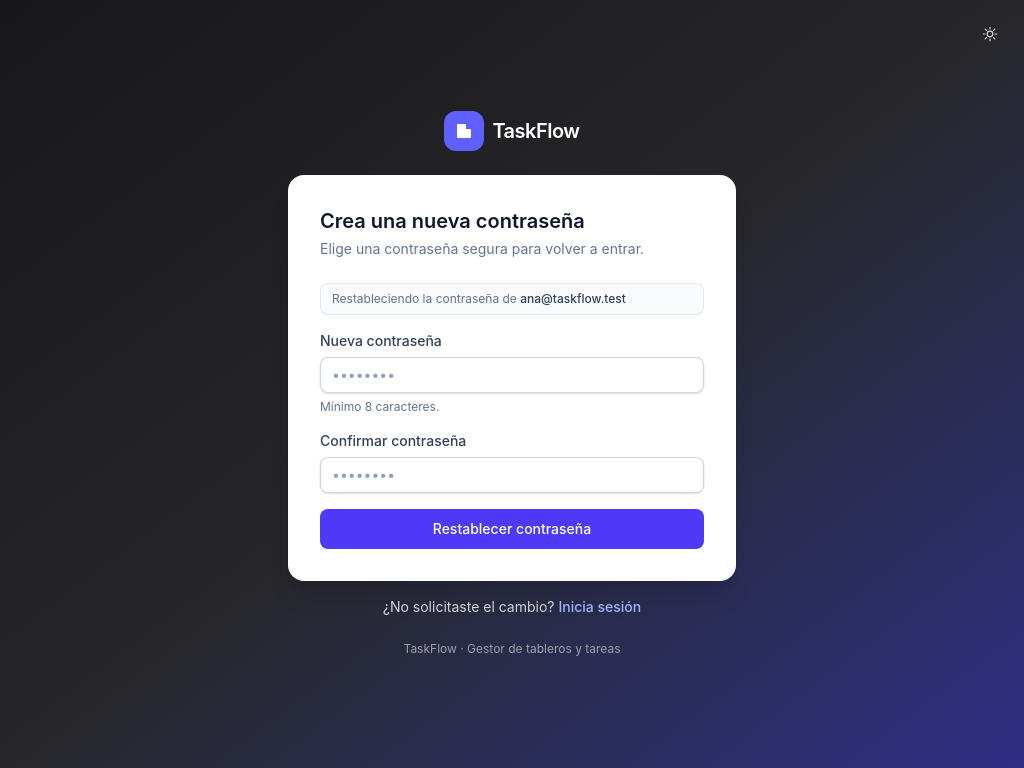
it: ResetPasswordPage › shows validation errors for the password fields
Step 1. Type "NewPassword123!" into the password field labelled "Nueva contraseña" → (512,375), box [320,357,704,393]
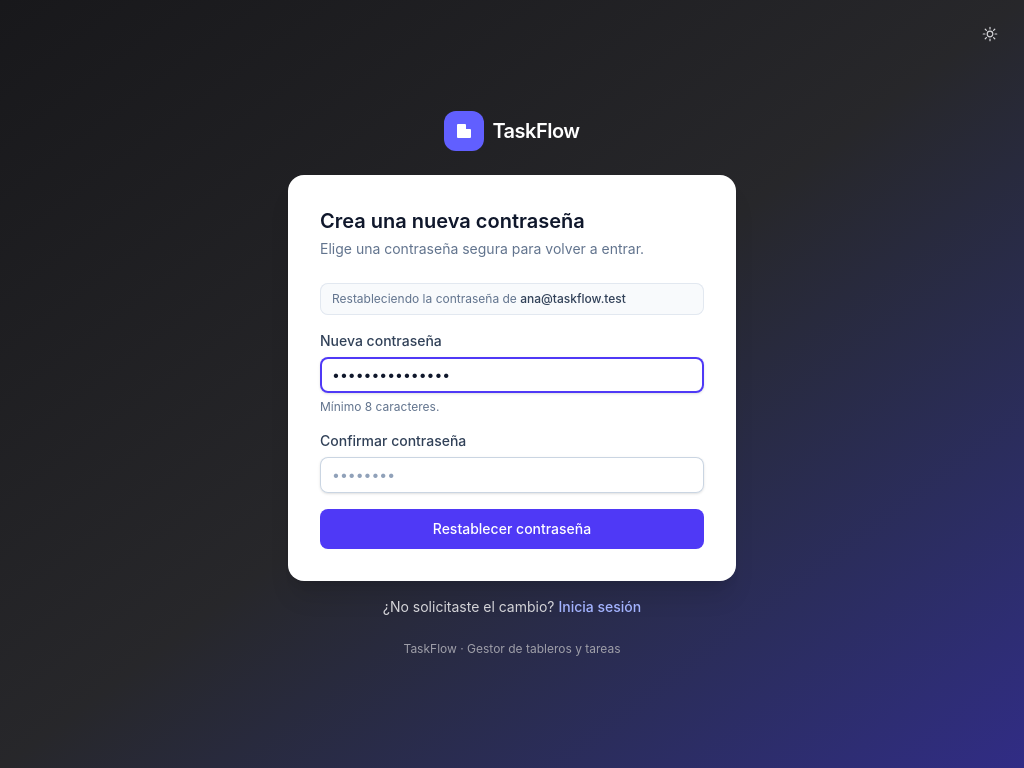
Step 2. Type "NewPassword123!" into the password field labelled "Confirmar contraseña" → (512,475), box [320,457,704,493]
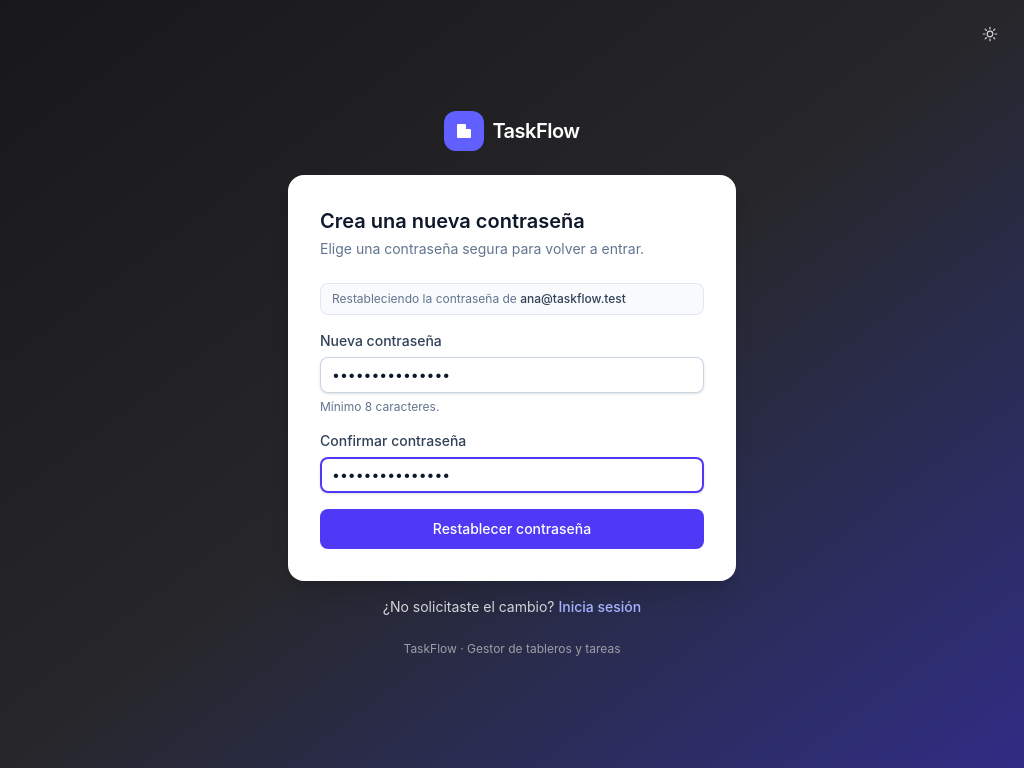
Step 3. Click the button "Restablecer contraseña" → (512,529), box [320,509,704,549]
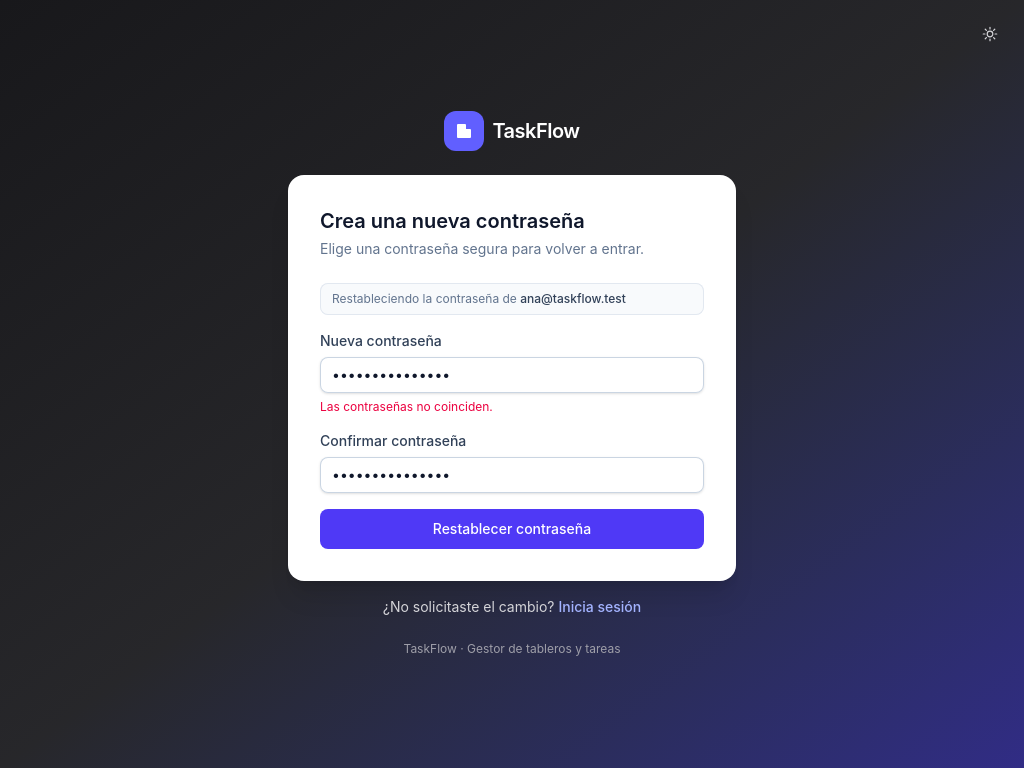
expect the text "Las contraseñas no coinciden." is shown: met, box [320,399,493,414]
